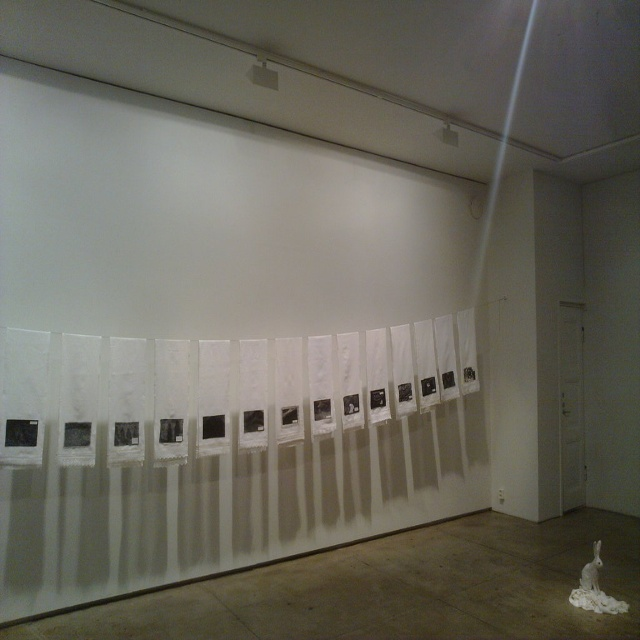Rabbit: (579, 540, 604, 596)
